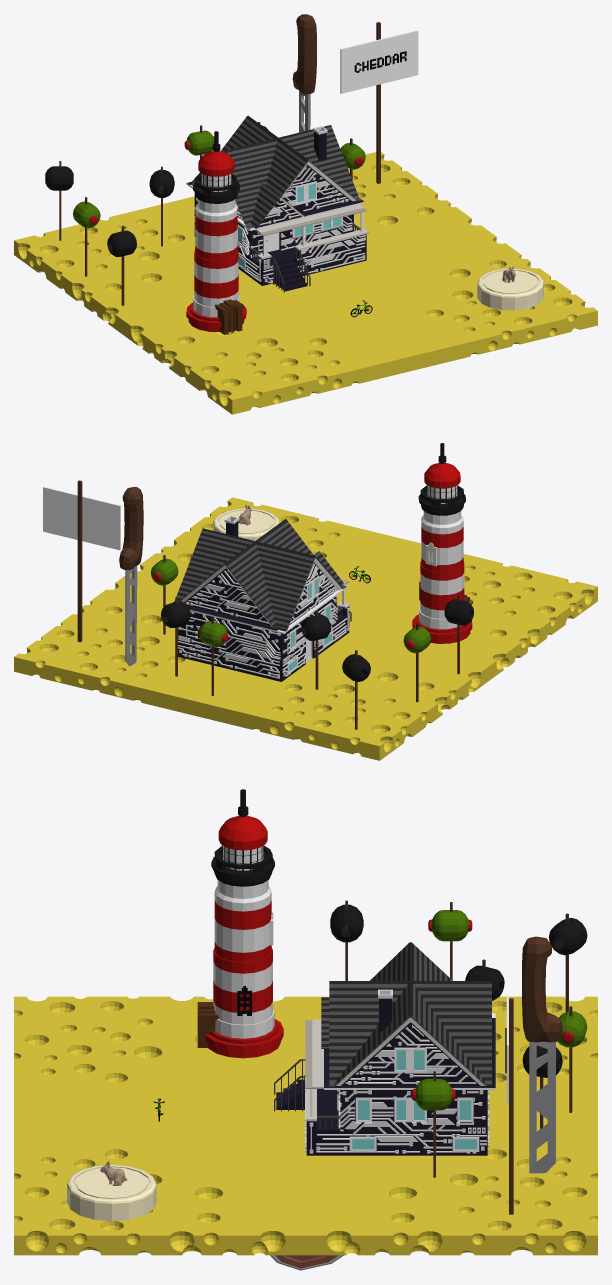
3 renders of one model, top to bottom at view 1: azimuth 30°, elevation 25°; view 2: azimuth 150°, elevation 25°; view 3: azimuth 270°, elevation 25°, orthographic. The views are drawn at different scales.
Visible parts, largest first — view 1: Cube.022, Cube.918, OBJRANDOM_LIGHTHOUSE, Cube.023, Cylinder.016, Cube.024, Sphere.017, Sphere.016, Sphere.018, Sphere.020, Sphere.022, Sphere.019; view 2: Cube.022, Cube.918, OBJRANDOM_LIGHTHOUSE, Cube.023, Cube.024, Cylinder.016, Sphere.020, Sphere.017, Sphere.021, Sphere.016, Sphere.022, Sphere.018 (+1 smaller); view 3: Cube.022, Cube.918, OBJRANDOM_LIGHTHOUSE, Cube.024, Cylinder.016, Cube.023, Sphere.019, Sphere.016, Sphere.018, Sphere.017, Sphere.022, UNDERGROUND_TREASURE (+2 smaller).
Boxes of the visible parts, <box> form: Cube.022: <box>14,152,597,414</box>; Cube.918: <box>186,115,369,292</box>; OBJRANDOM_LIGHTHOUSE: <box>186,131,246,334</box>; Cube.023: <box>340,22,418,183</box>; Cylinder.016: <box>477,268,543,310</box>; Cube.024: <box>292,14,316,132</box>; Sphere.017: <box>107,226,136,305</box>; Sphere.016: <box>45,161,73,240</box>; Sphere.018: <box>73,197,100,276</box>; Sphere.020: <box>149,166,174,246</box>; Sphere.022: <box>184,125,214,158</box>; Sphere.019: <box>340,138,365,179</box>; Cube.022: <box>14,497,597,760</box>; Cube.918: <box>173,515,351,681</box>; OBJRANDOM_LIGHTHOUSE: <box>412,443,472,643</box>; Cube.023: <box>43,480,120,642</box>; Cube.024: <box>119,487,143,666</box>; Cylinder.016: <box>213,508,279,540</box>; Sphere.020: <box>301,610,330,689</box>; Sphere.017: <box>444,594,473,674</box>; Sphere.021: <box>161,597,190,676</box>; Sphere.016: <box>342,650,370,729</box>; Sphere.022: <box>198,616,228,695</box>; Sphere.018: <box>403,622,431,702</box>; Cube.022: <box>14,996,597,1255</box>; Cube.918: <box>274,942,495,1155</box>; OBJRANDOM_LIGHTHOUSE: <box>197,789,283,1058</box>; Cube.024: <box>522,936,562,1173</box>; Cylinder.016: <box>67,1164,156,1221</box>; Cube.023: <box>505,995,513,1214</box>; Sphere.019: <box>411,1071,455,1177</box>; Sphere.016: <box>548,913,587,1011</box>; Sphere.018: <box>428,902,472,979</box>; Sphere.017: <box>330,900,363,980</box>; Sphere.022: <box>558,1006,587,1112</box>; UNDERGROUND_TREASURE: <box>270,1255,343,1270</box>.
Size of the model in its own units: 3917 by 2847 by 4000.
Materials: 46 (3 with a texture image).
